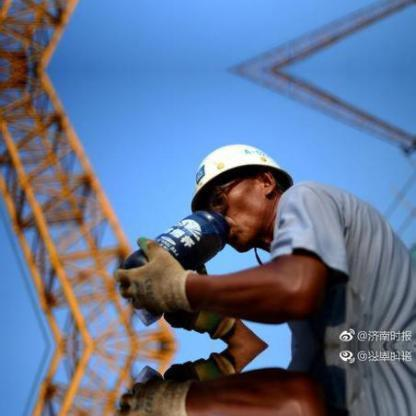helmet: (186, 142, 294, 215)
